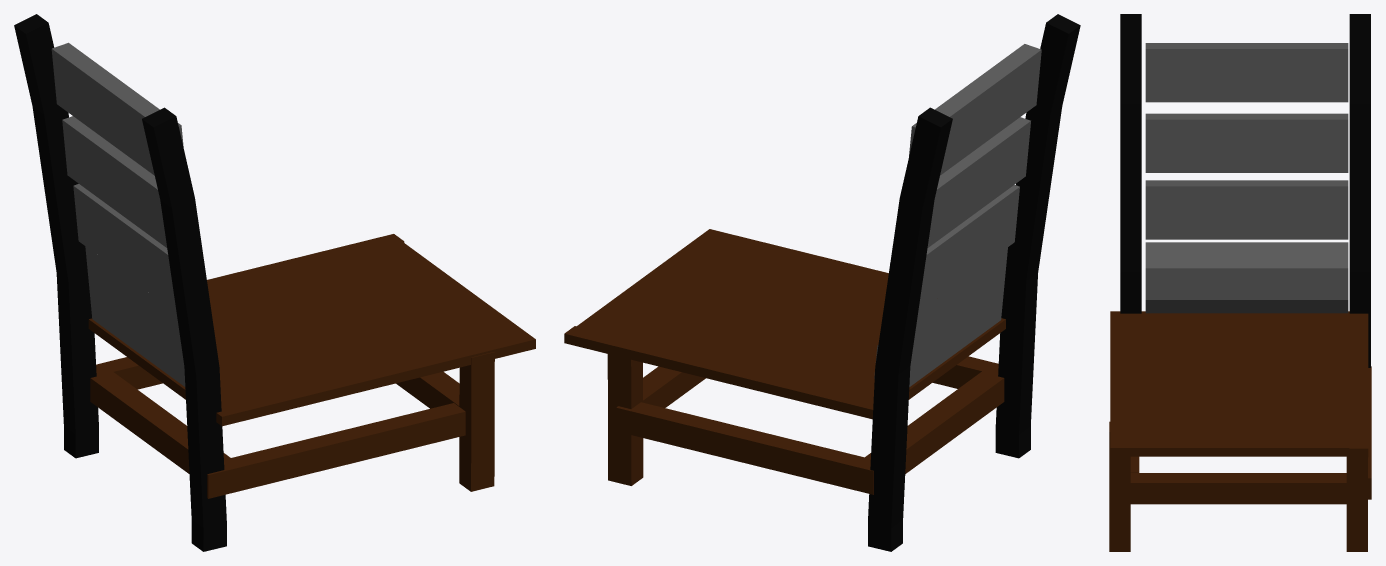
Rendered from DiningChair.fbx.
3 views of the same model, side by side, from view 1: azimuth 30°, elevation 25°; view 2: azimuth 150°, elevation 25°; view 3: azimuth 270°, elevation 25° (orthographic). The views are drawn at different scales.
Parts seen in each view (by area): view 1: Chair; view 2: Chair; view 3: Chair.
Boxes of the visible parts, x1,y1,x2,y2 form: Chair: [14, 14, 535, 551]; Chair: [564, 14, 1080, 551]; Chair: [1109, 14, 1371, 551].
Size of the model in its own units: 183 by 204 by 122.
